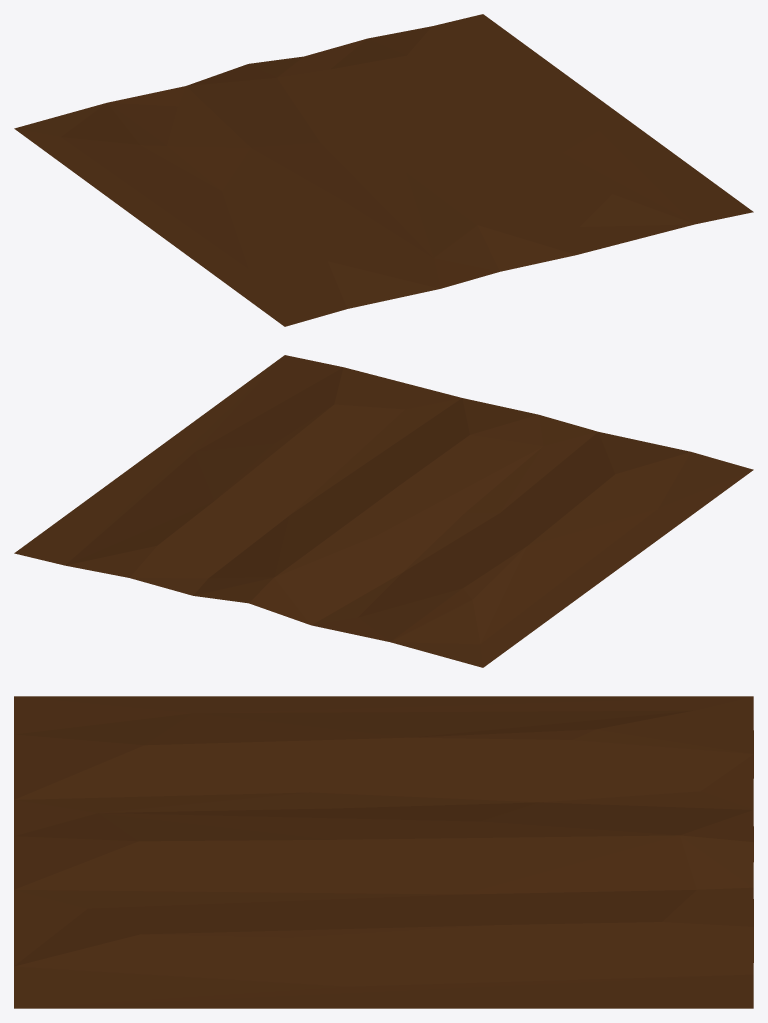
File: ground.glb
3 renders of one model, top to bottom at view 1: azimuth 30°, elevation 25°; view 2: azimuth 150°, elevation 25°; view 3: azimuth 270°, elevation 25°, orthographic. The views are drawn at different scales.
Parts seen in each view (by area): view 1: Plane; view 2: Plane; view 3: Plane.
Boxes of the visible parts, <box> form: Plane: <box>14,14,753,326</box>; Plane: <box>14,355,753,667</box>; Plane: <box>14,696,753,1008</box>.
Size of the model in its own units: 50 by 1.38 by 50.02.
